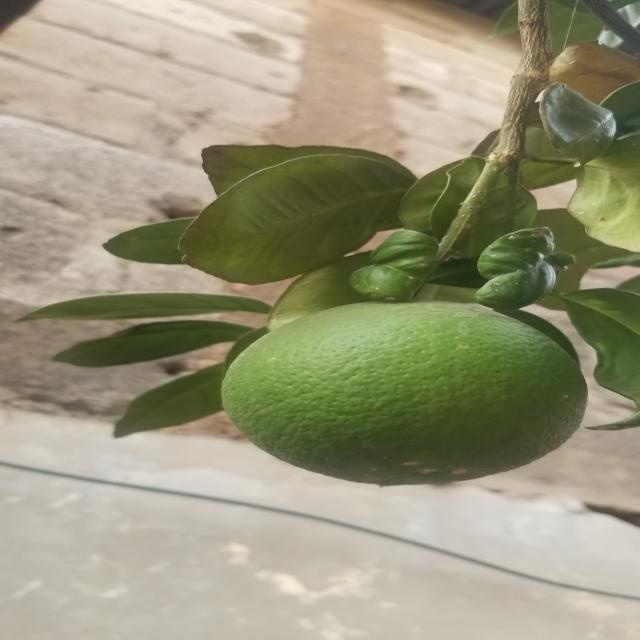agrume: (219, 295, 591, 497)
